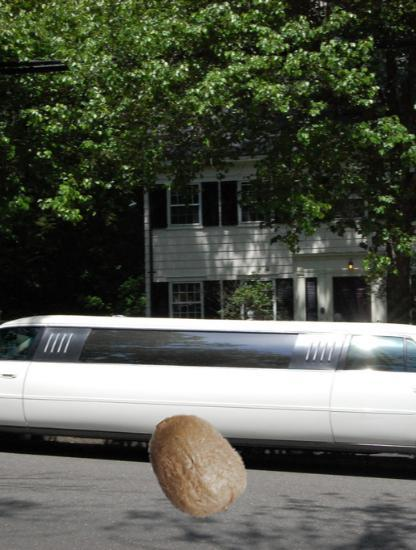Kiwi: (139, 410, 252, 523)
